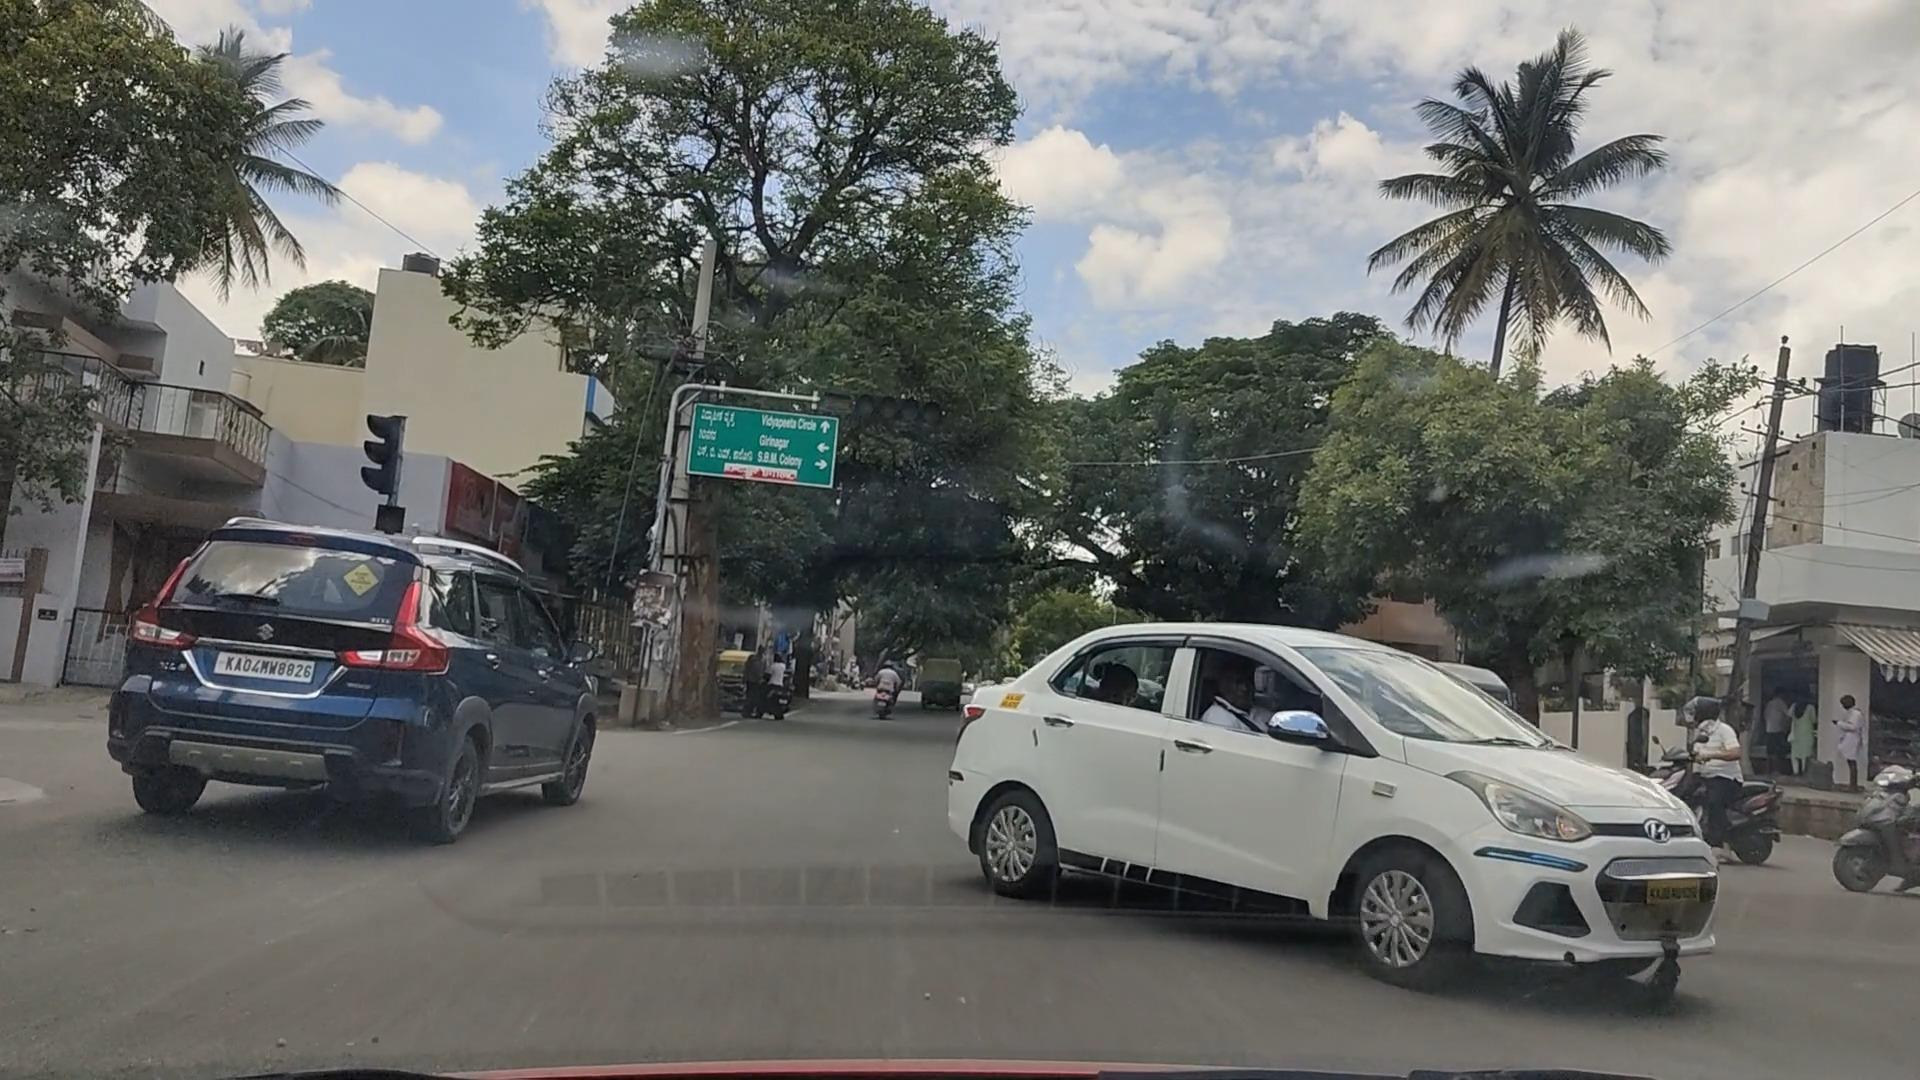LMV: (948, 608, 1735, 1005), (100, 505, 617, 855)
